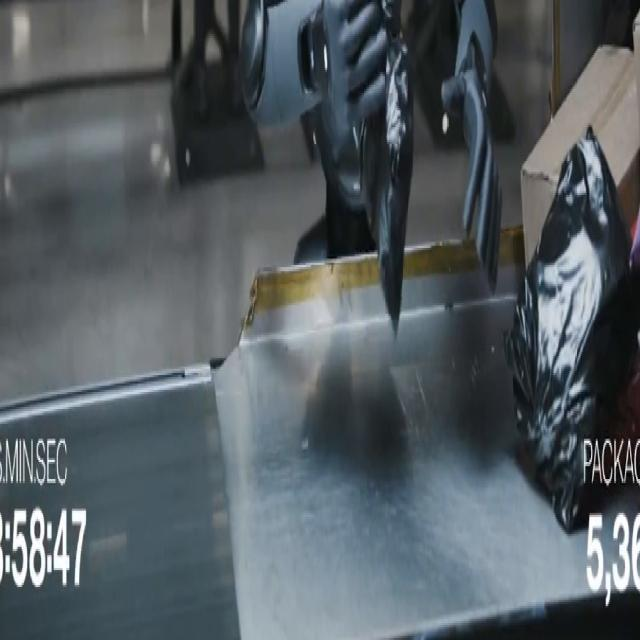package: (505, 128, 638, 531), (522, 47, 639, 262), (360, 0, 413, 330), (633, 13, 639, 86), (631, 219, 639, 269)
